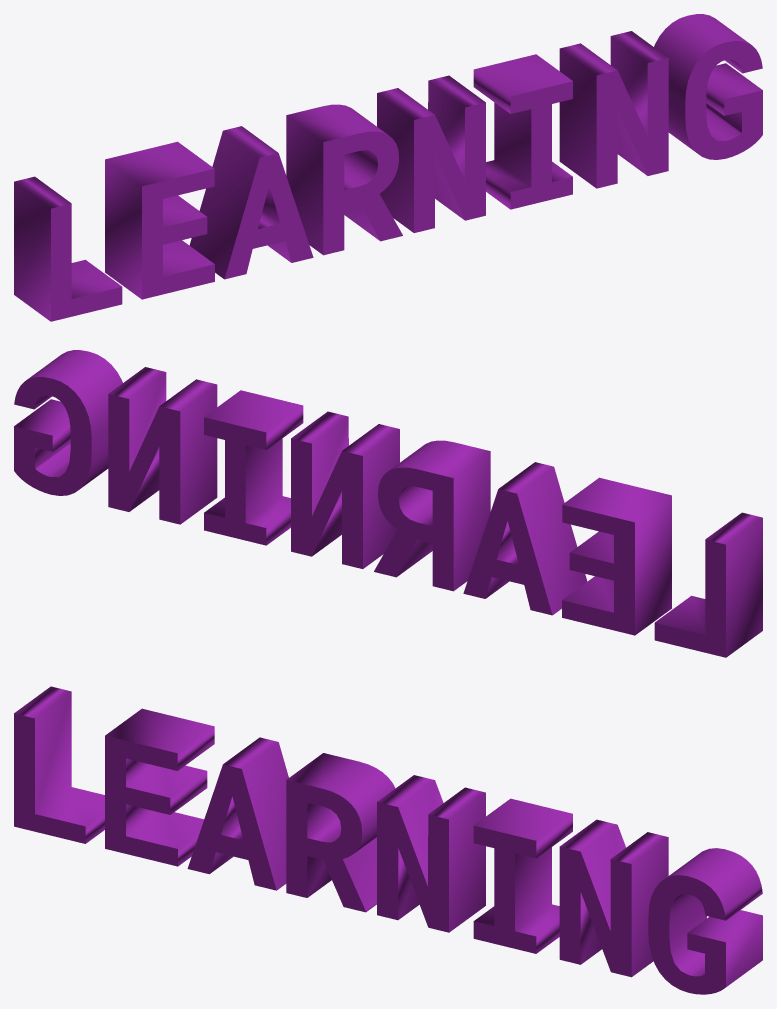
The model's file is Learning.fbx.
The picture shows the model from 3 angles, top to bottom: view 1: azimuth 30°, elevation 25°; view 2: azimuth 150°, elevation 25°; view 3: azimuth 330°, elevation 25°; orthographic projection.
Parts seen in each view (by area): view 1: $ColladaAutoName$_1; view 2: $ColladaAutoName$_1; view 3: $ColladaAutoName$_1.
Part boxes in pixels (x1,y1,x2,y2): $ColladaAutoName$_1: (14, 14, 762, 321); $ColladaAutoName$_1: (14, 350, 762, 657); $ColladaAutoName$_1: (14, 686, 762, 994).
Bounding box in the file's own units: 650 × 102 × 58.3.
